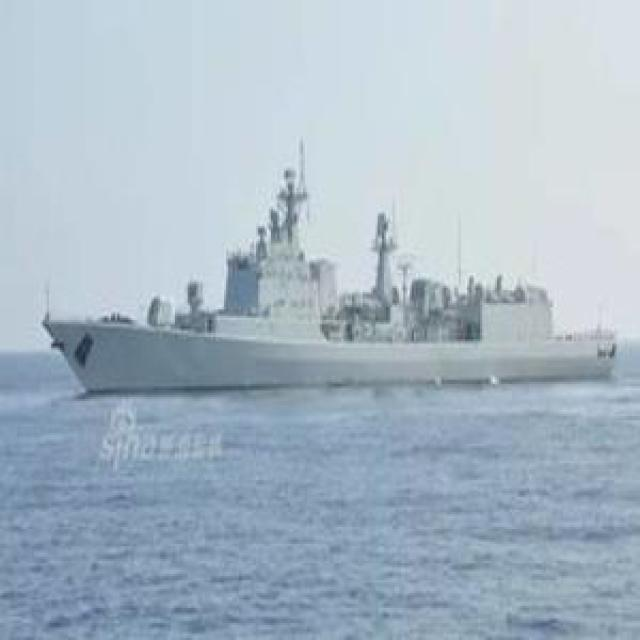navalvessels: (41, 146, 619, 388)
